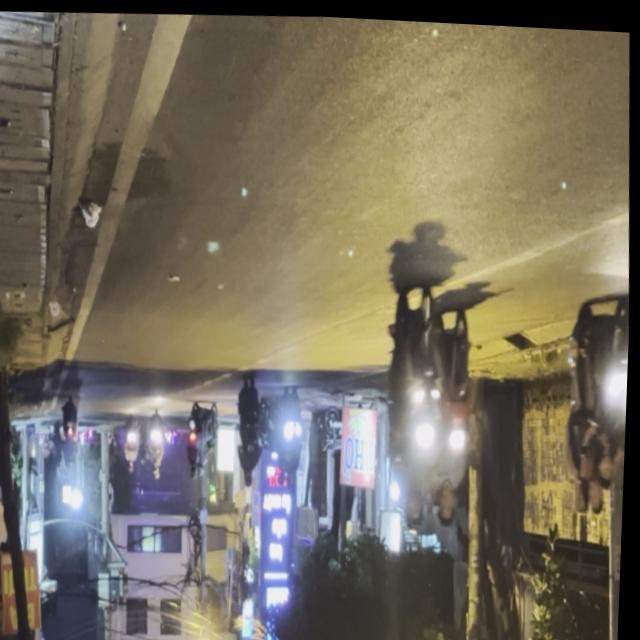licenseplate: (376, 274, 487, 544), (560, 284, 632, 514)
motorcyclist: (406, 486, 430, 531), (438, 483, 462, 526), (600, 446, 621, 484), (590, 474, 610, 511)
